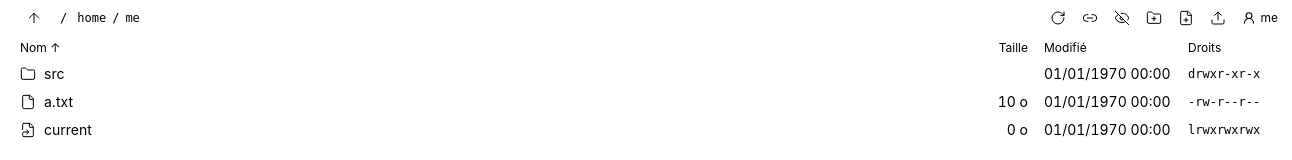
double click enters a directory and backspace goes up
Step 1. Click the button named "Ne pas suivre le terminal" → (1090, 18), box [1076,4,1104,32]
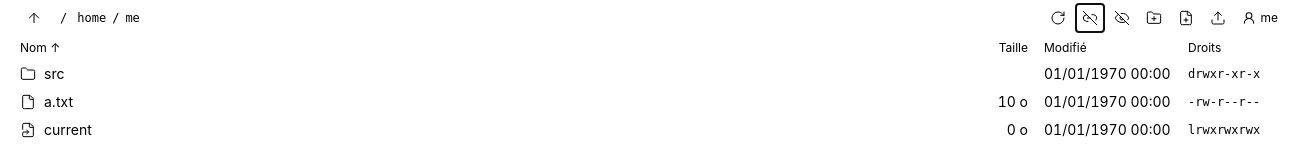
Step 2. Double-click the row "src 01/01/1970 00:00 drwxr-xr-x" → (1107, 74), box [12,60,1291,88]
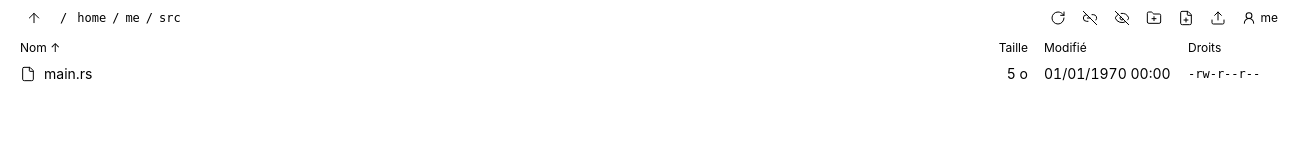
expect the row "main.rs 5 o 01/01/1970 00:00 -rw-r--r--" is shown: met, box [12,60,1291,88]
Step 3. Press Backspace
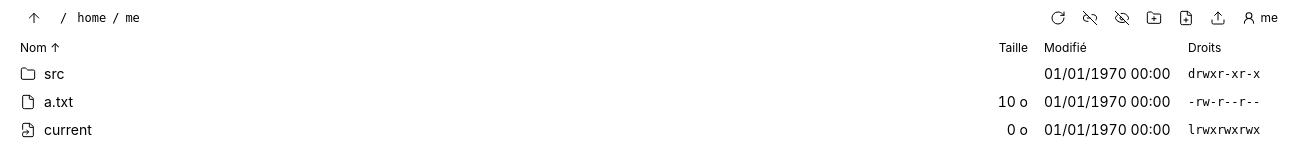
expect the row "a.txt 10 o 01/01/1970 00:00 -rw-r--r--" is shown: met, box [12,88,1291,116]
